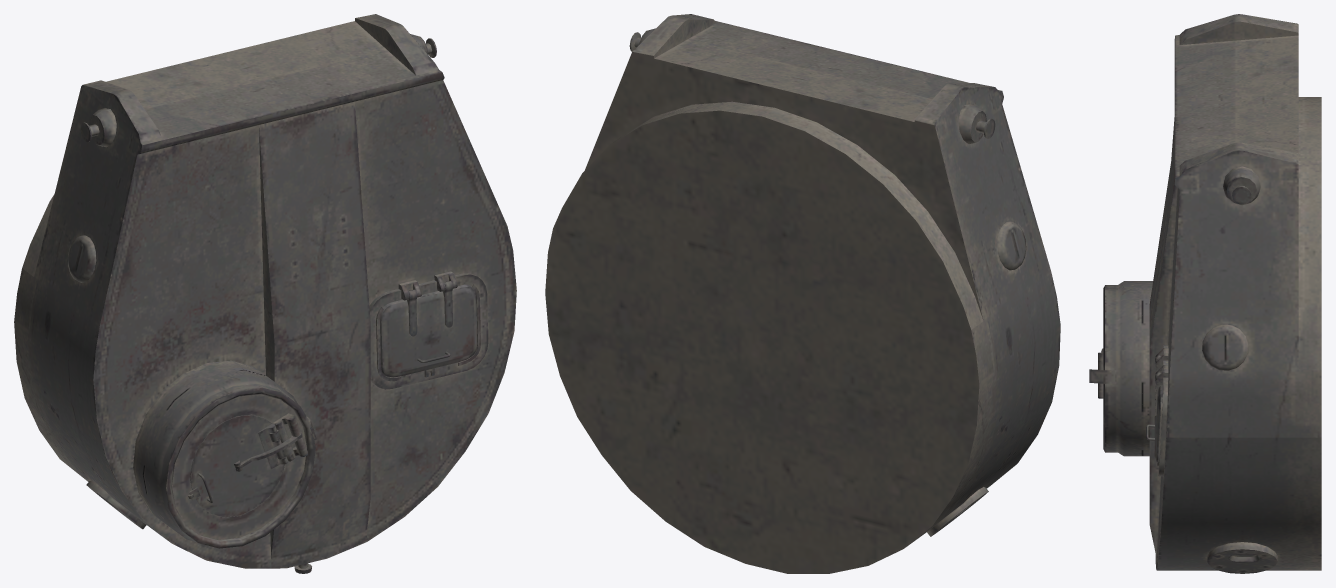
Rendered from Turret_01.glb.
The picture shows the model from 3 angles, left to right: view 1: azimuth 30°, elevation 25°; view 2: azimuth 150°, elevation 25°; view 3: azimuth 270°, elevation 25°; orthographic projection. The views are drawn at different scales.
Visible parts, largest first — view 1: set_0_group_0; view 2: set_0_group_0; view 3: set_0_group_0.
Part boxes in pixels (bbox=[...]): set_0_group_0: bbox=[14, 14, 516, 573]; set_0_group_0: bbox=[545, 14, 1060, 573]; set_0_group_0: bbox=[1089, 14, 1321, 573].
Bounding box in the file's own units: 2.39 × 2.63 × 1.17.
Materials: 1 (1 with a texture image).
